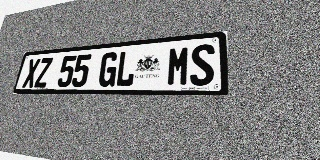5: (71, 54, 92, 87), (57, 55, 77, 87)
G: (97, 52, 119, 87)
L: (115, 50, 137, 87)
M: (166, 45, 190, 86)
S: (190, 43, 215, 86)
X: (22, 58, 41, 88)
Z: (34, 57, 53, 88)
